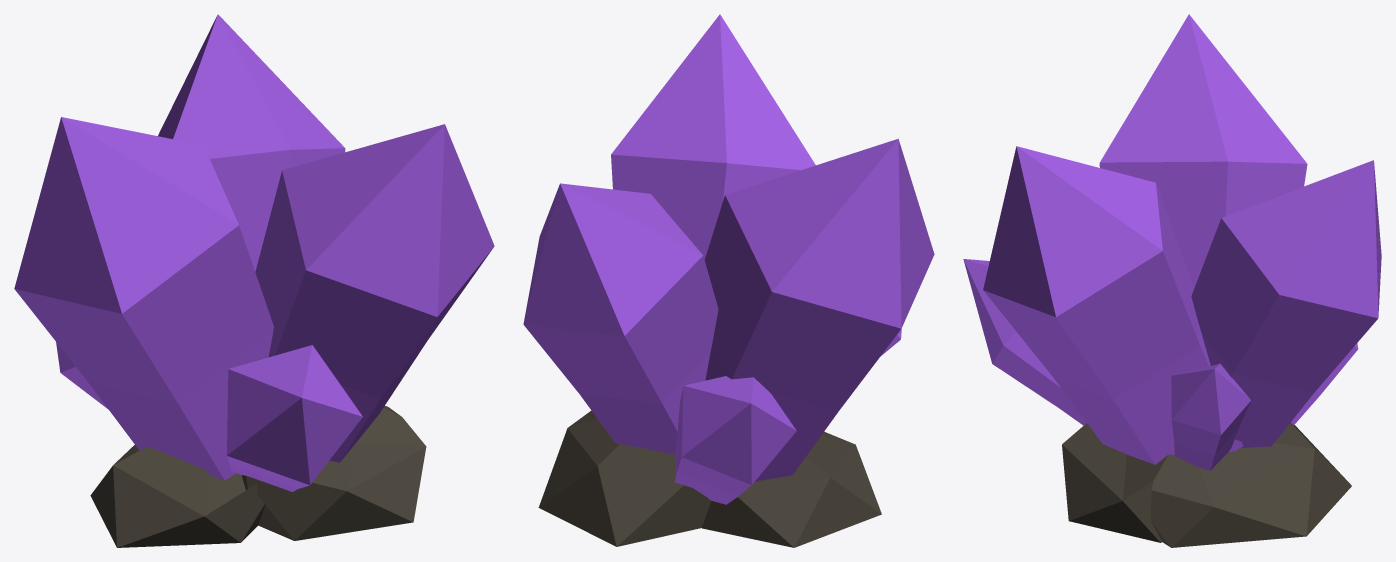
Rendered from crystal.fbx.
3 renders of one model, left to right at view 1: azimuth 30°, elevation 25°; view 2: azimuth 150°, elevation 25°; view 3: azimuth 270°, elevation 25°, orthographic. The views are drawn at different scales.
Parts seen in each view (by area): view 1: crystal cluster on rock; view 2: crystal cluster on rock; view 3: crystal cluster on rock.
Boxes of the visible parts, left/top/right/bottom form: crystal cluster on rock: left=14, top=14, right=494, bottom=547; crystal cluster on rock: left=523, top=14, right=934, bottom=547; crystal cluster on rock: left=963, top=14, right=1381, bottom=547.
Bounding box in the file's own units: 408 × 432 × 429.
